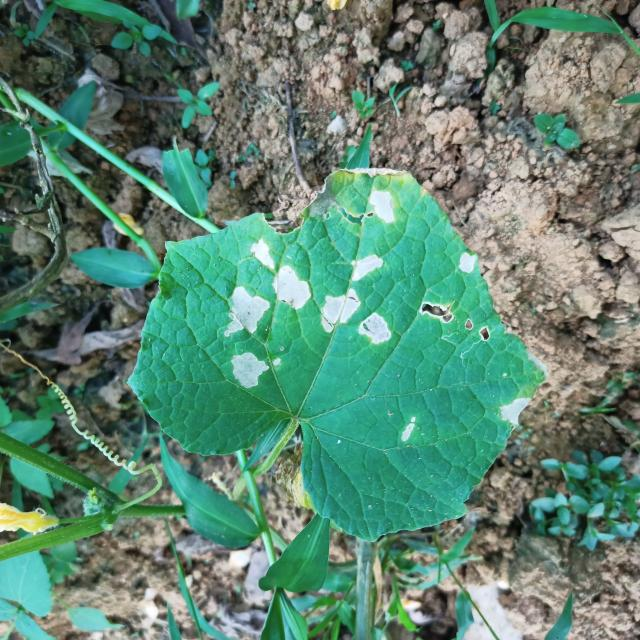disease_cucumber: (249, 238, 312, 312), (320, 288, 393, 345), (419, 300, 492, 344), (224, 285, 272, 339), (231, 352, 282, 391), (368, 189, 396, 226), (350, 254, 384, 284), (500, 398, 529, 426), (402, 415, 417, 445), (459, 252, 478, 274)
